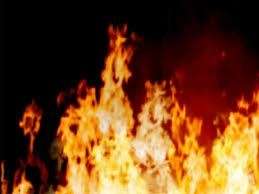fire: (24, 25, 250, 186)
